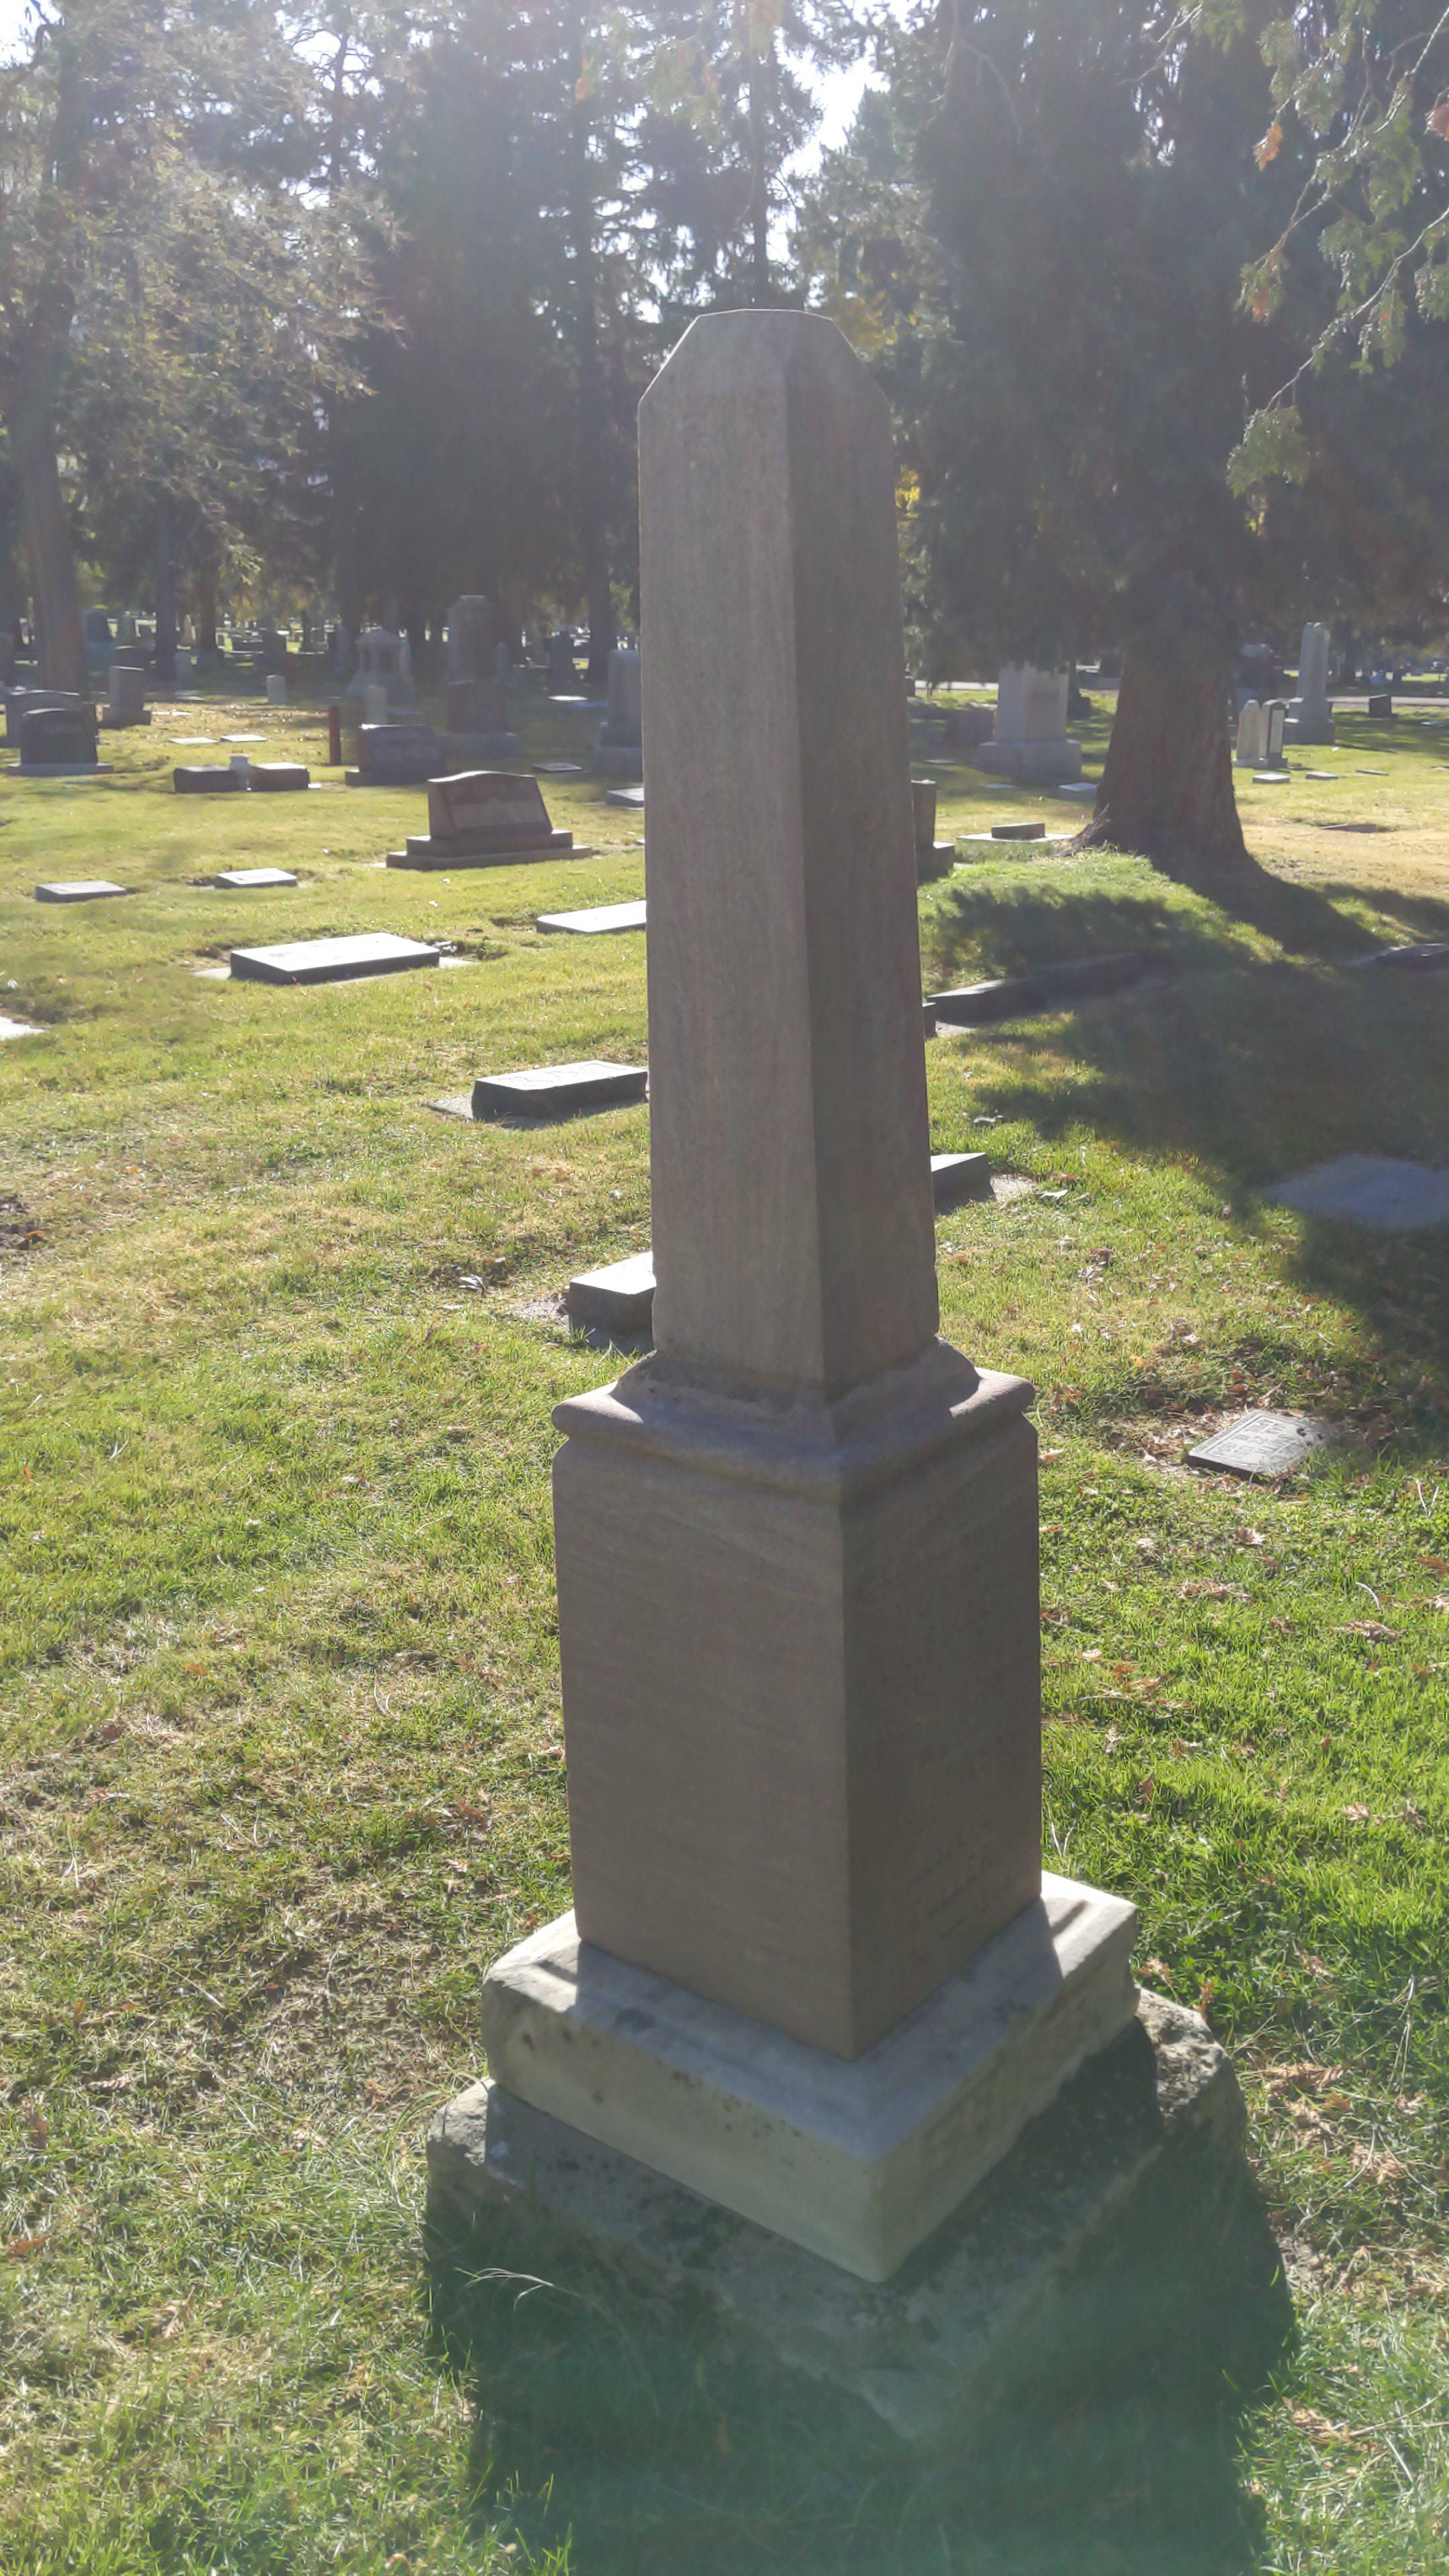obelisk: (554, 306, 1044, 2054)
